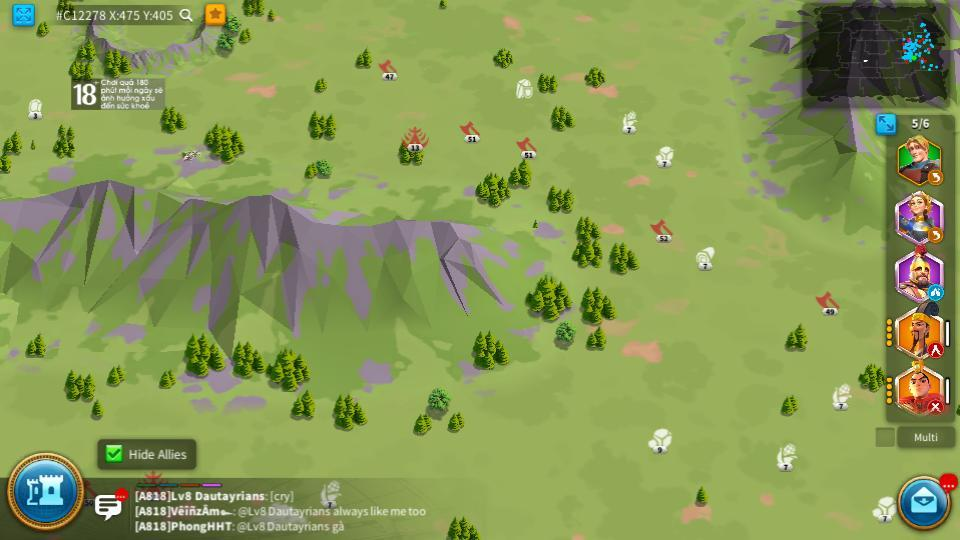gem-z-out: (24, 99, 45, 118)
march_attacking: (927, 401, 945, 413), (927, 345, 944, 357)
march_idle: (929, 284, 943, 299)
march_returning: (927, 170, 944, 185), (928, 229, 942, 242)
